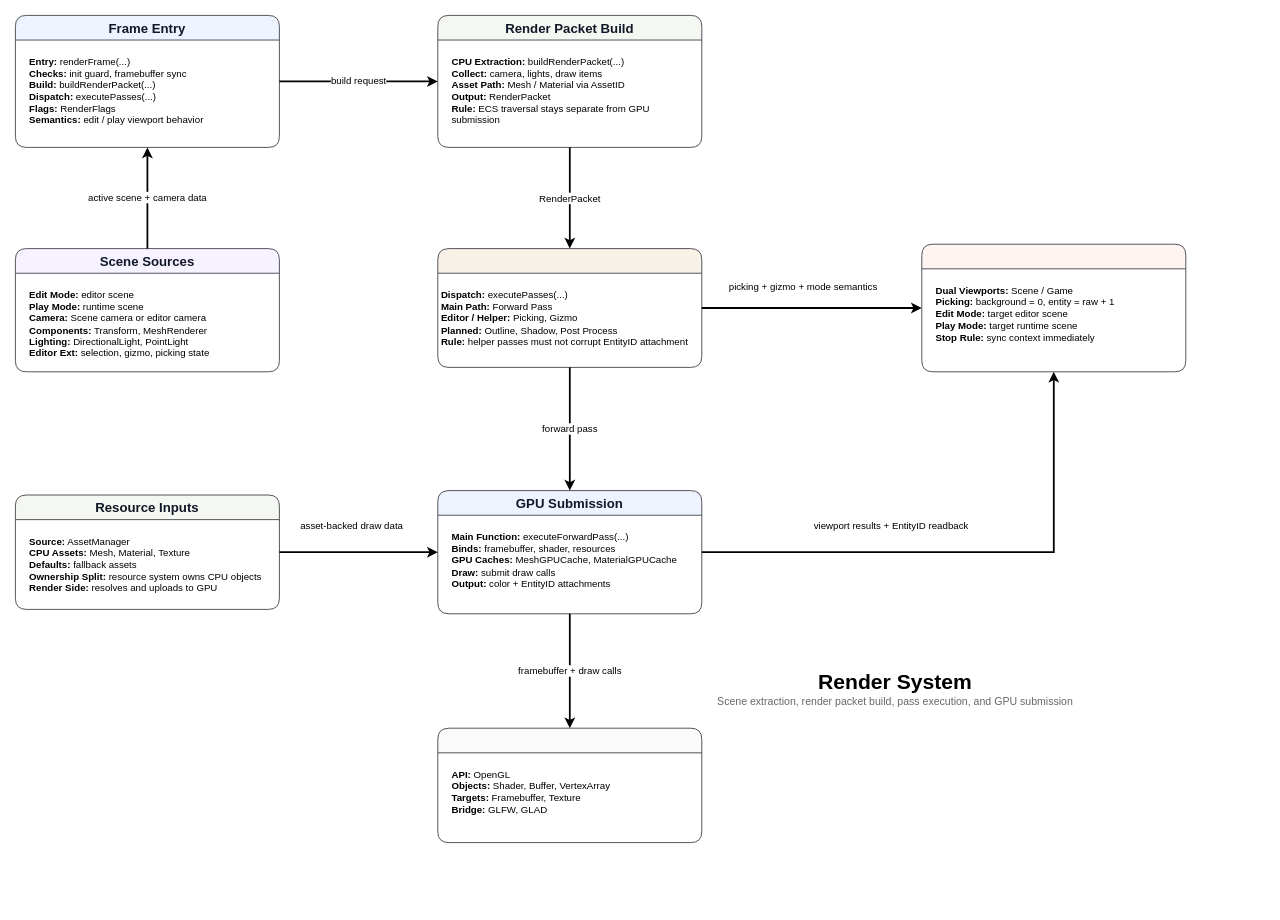
The diagram is 1280 pixels wide and 920 high, and some of its shapes have lost their labels. The box of each missing label's shape, as (x1, y1, x2, y2) in pixels:
Editor Integration: (921, 243, 1186, 372)
Graphics Backend: (437, 727, 702, 843)
Pass Execution Stage: (437, 248, 702, 367)
